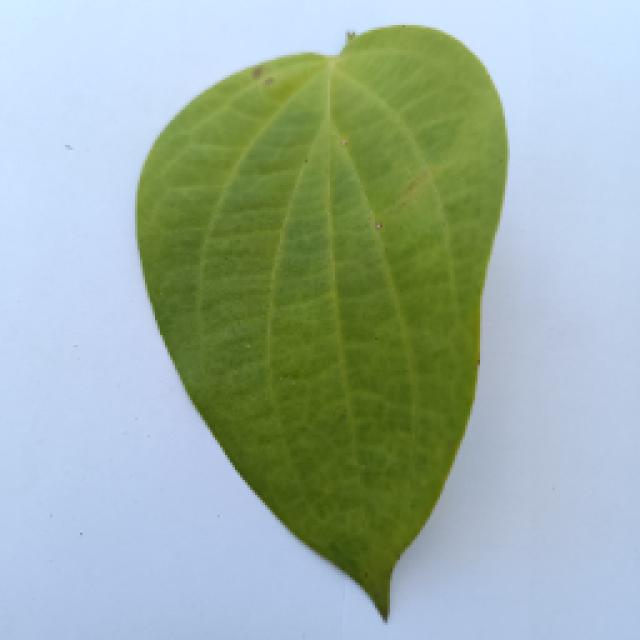slow-decline: (132, 25, 508, 617)
